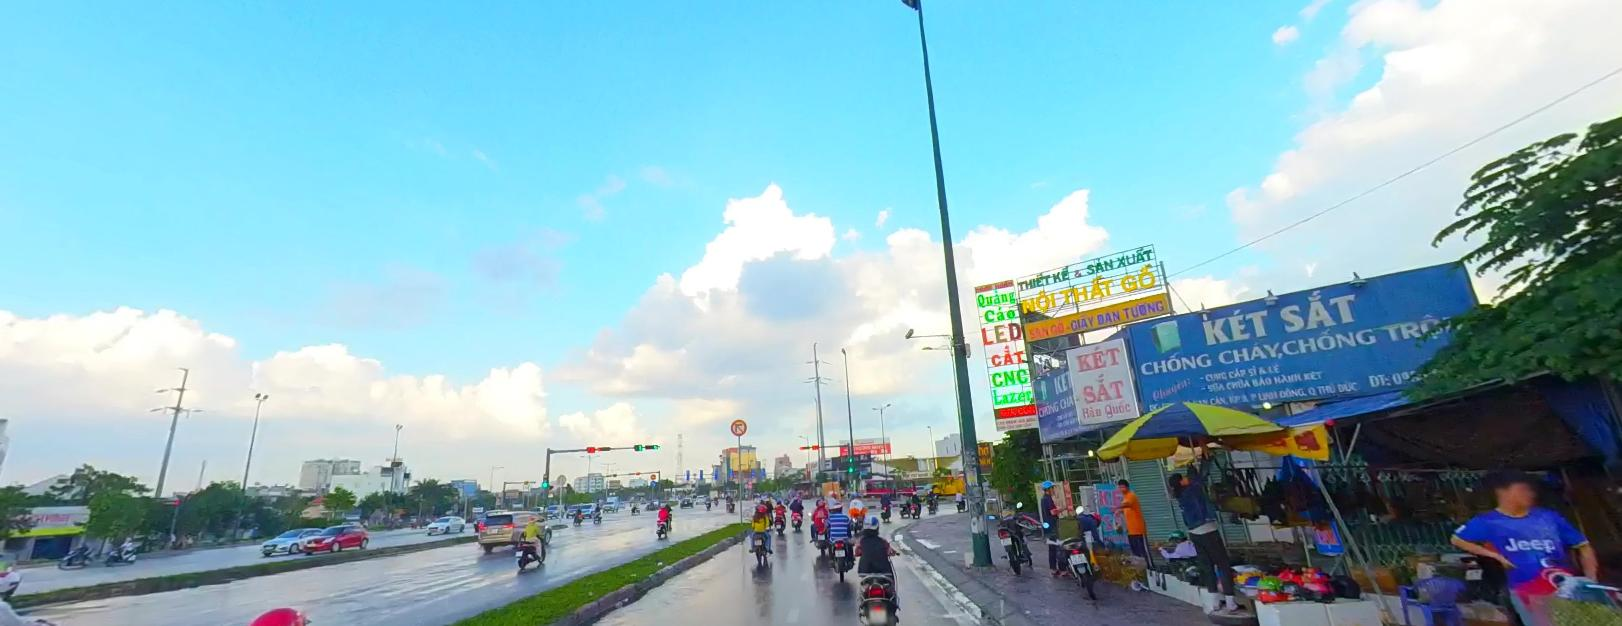Cam nguoc chieu: (649, 473, 655, 478)
Cam re: (729, 418, 748, 435)
Hieu lenh: (650, 479, 655, 486)
